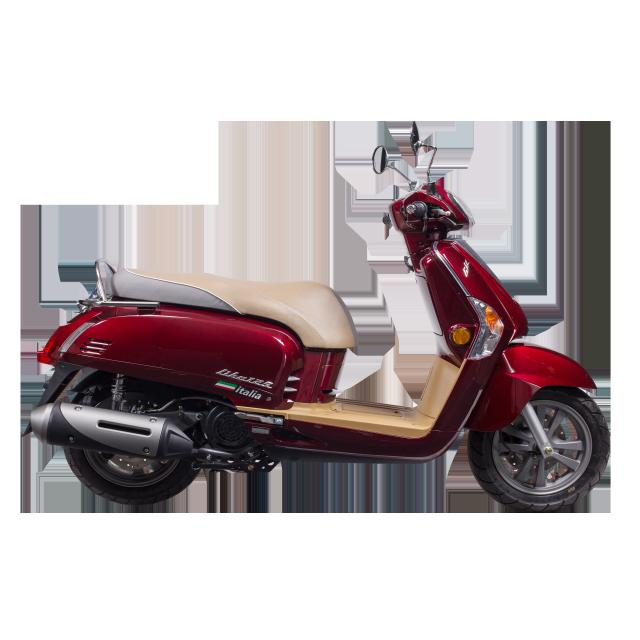Motorcycle: (30, 180, 610, 512)
